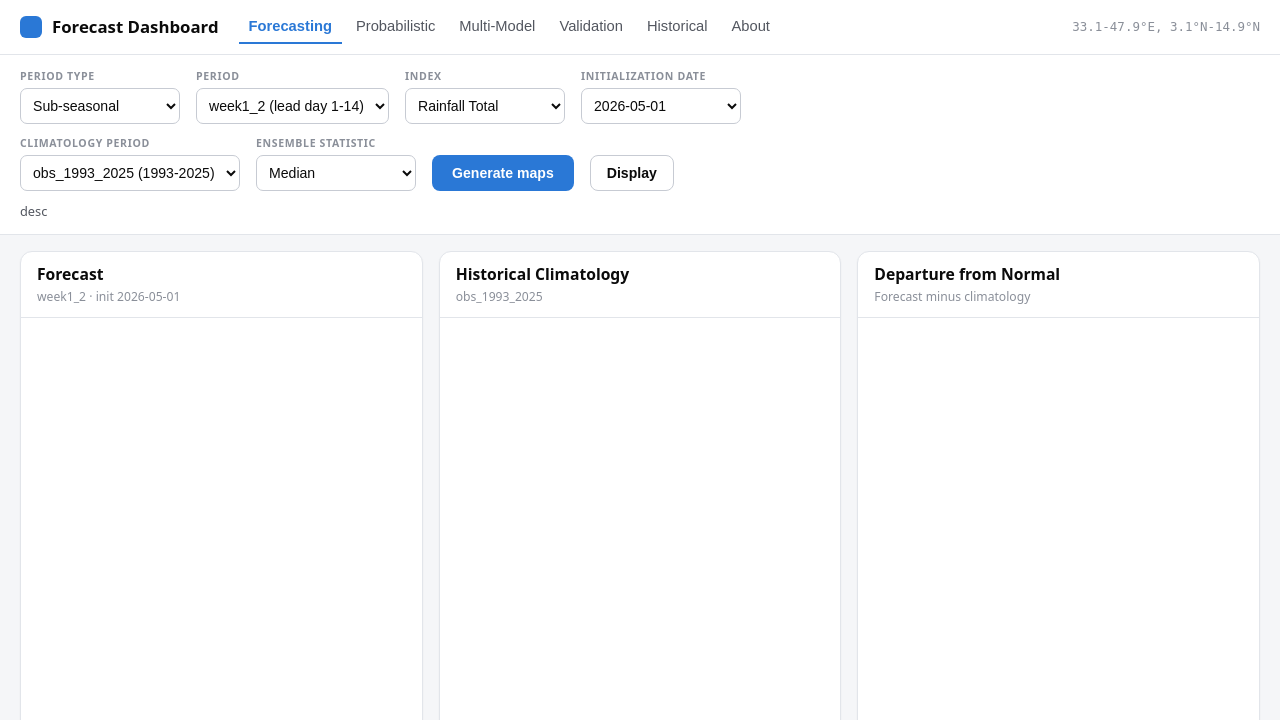
Scenario: App › clicking Generate maps submits a job, polls it, and loads overlays for all three panels
This screenshot has width=1280, height=720.
Click the button "Generate maps": (503, 173) [432, 155, 574, 191]
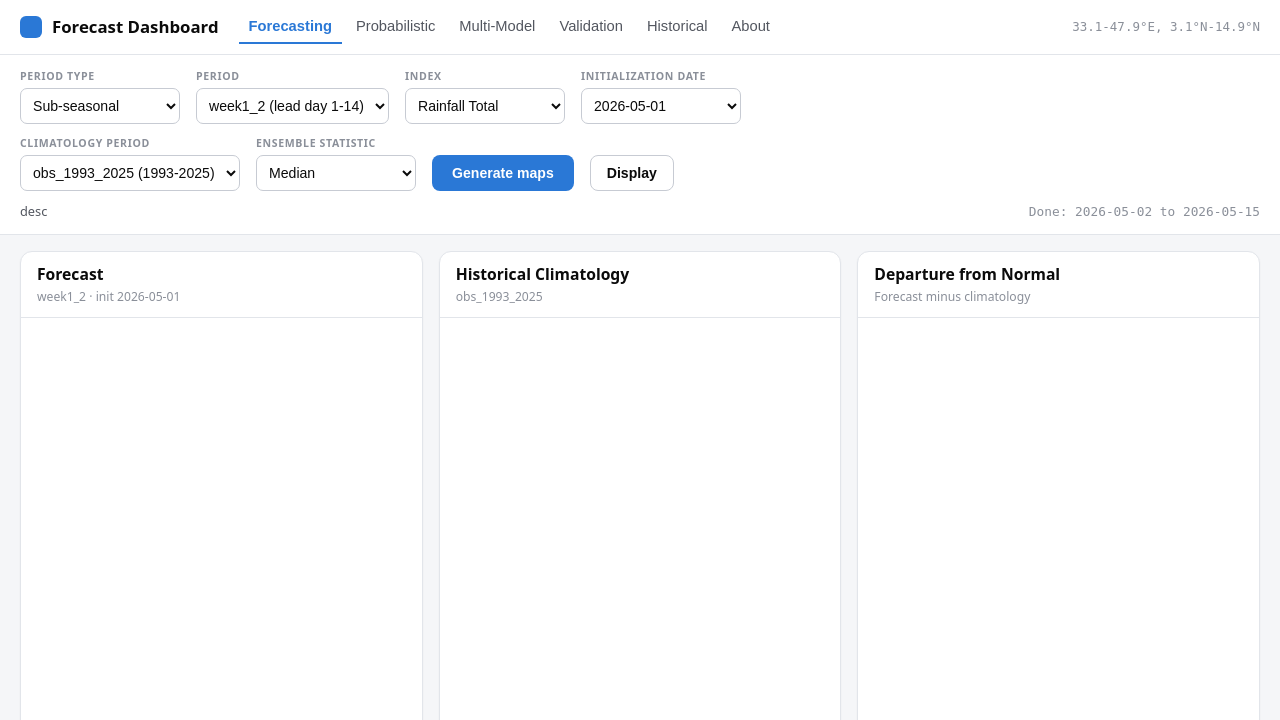
Expected: the text "Done: 2026-05-02 to 2026-05-15" is shown, [1029, 203, 1260, 220]
